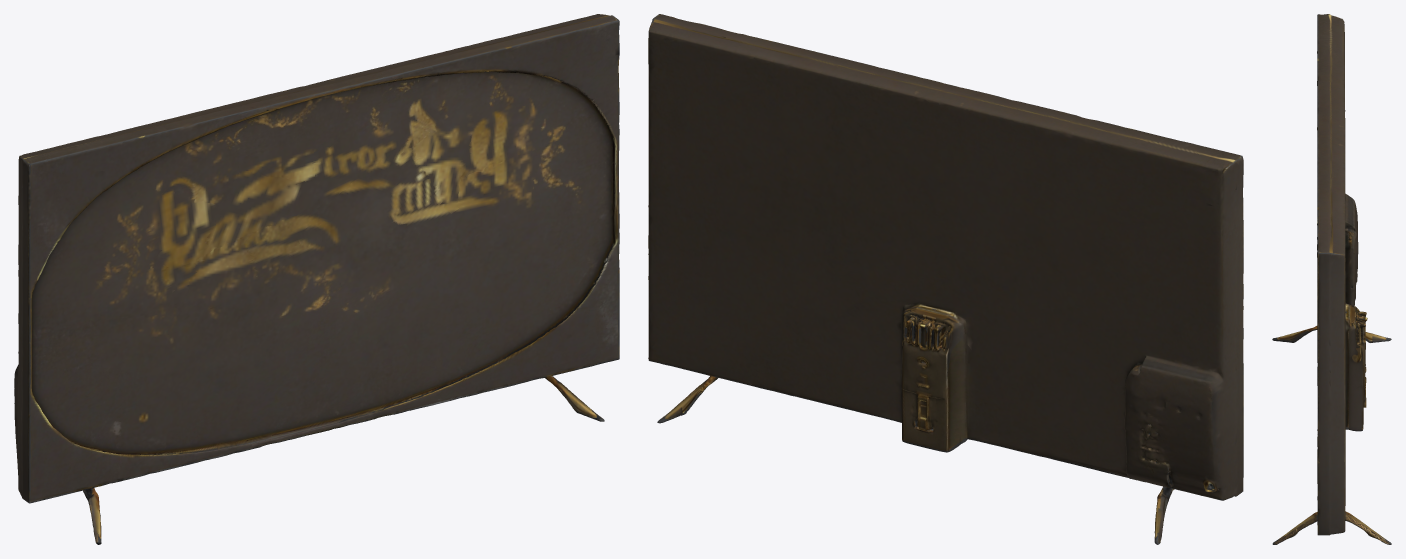
The model's file is Television.glb.
The picture shows the model from 3 angles, left to right: view 1: azimuth 30°, elevation 25°; view 2: azimuth 150°, elevation 25°; view 3: azimuth 270°, elevation 25°; orthographic projection. The views are drawn at different scales.
Bounding box in the file's own units: 1.9 × 1.14 × 0.4001.
1 material, 1 textured.
